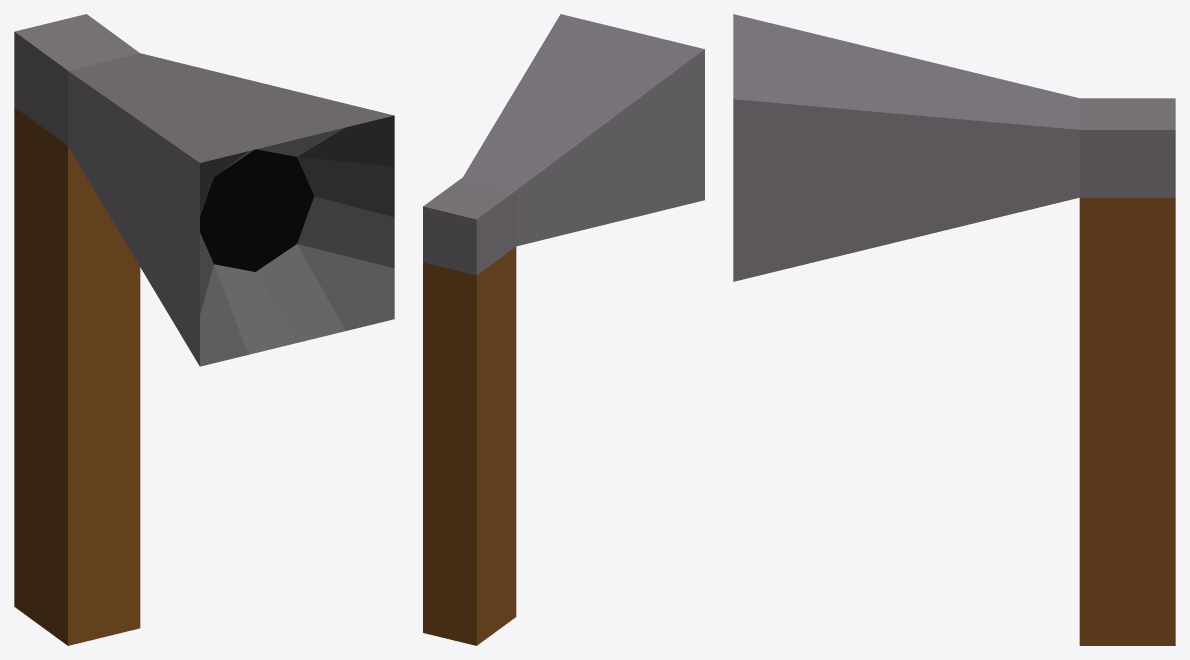
The model's file is (p) Speaker.fbx.
3 renders of one model, left to right at view 1: azimuth 30°, elevation 25°; view 2: azimuth 150°, elevation 25°; view 3: azimuth 270°, elevation 25°, orthographic. The views are drawn at different scales.
Parts seen in each view (by area): view 1: Speaker; view 2: Speaker; view 3: Speaker.
Boxes of the visible parts, bbox=[...] form: Speaker: bbox=[14, 14, 394, 645]; Speaker: bbox=[423, 14, 704, 645]; Speaker: bbox=[733, 14, 1175, 645].
Bounding box in the file's own units: 222 × 696 × 487.
